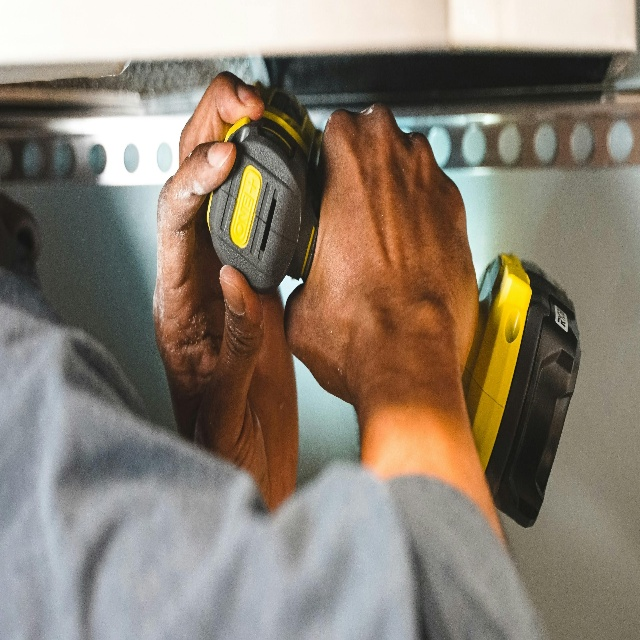Sin_guantes: (149, 71, 309, 514), (286, 101, 483, 406)
